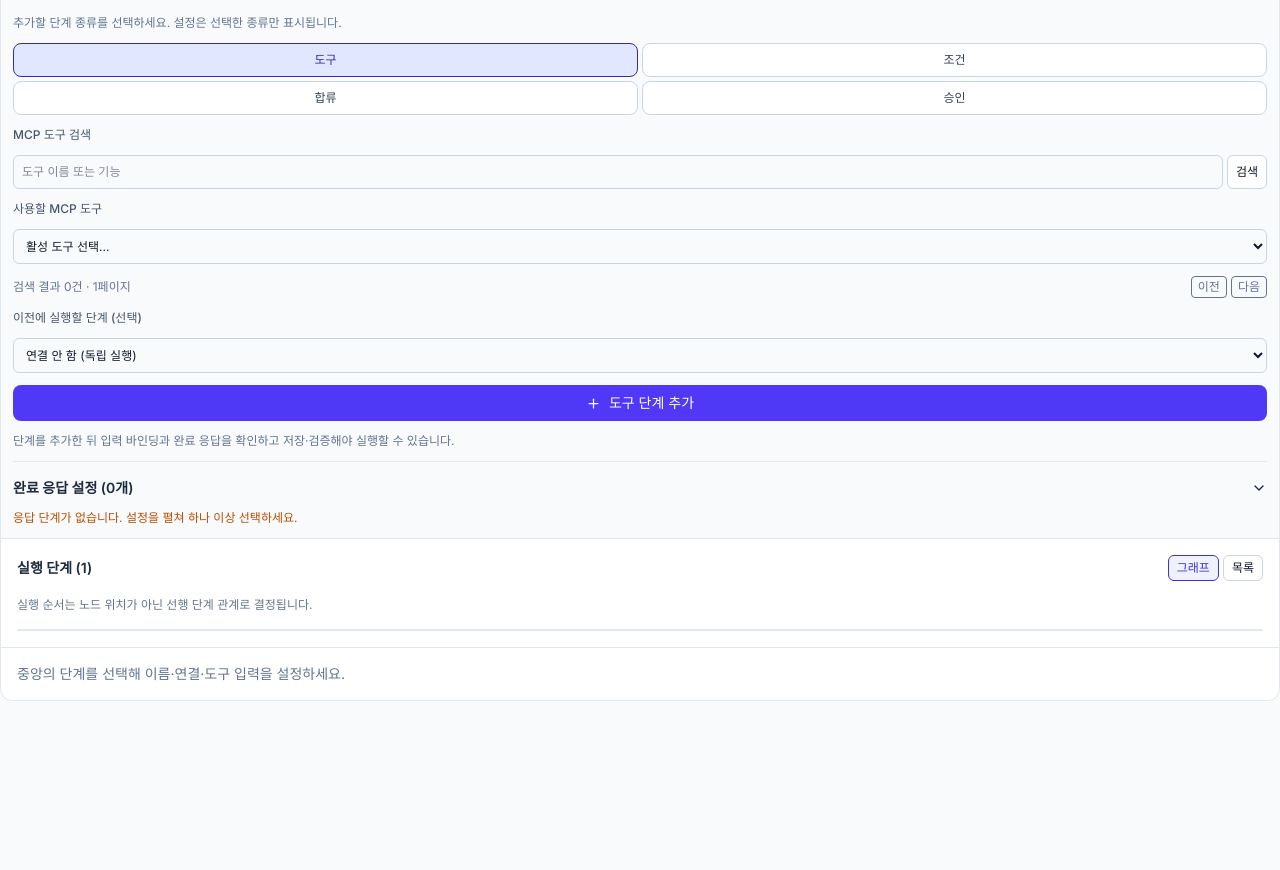
Test: Canonical visual workflow editor › never permits writes from the visual editor for a published version
Expected: the button "도구 단계 추가" is disabled, [13,385,1267,421]
Click the button "목록". click: (1243, 568)
box: [1223,555,1263,581]
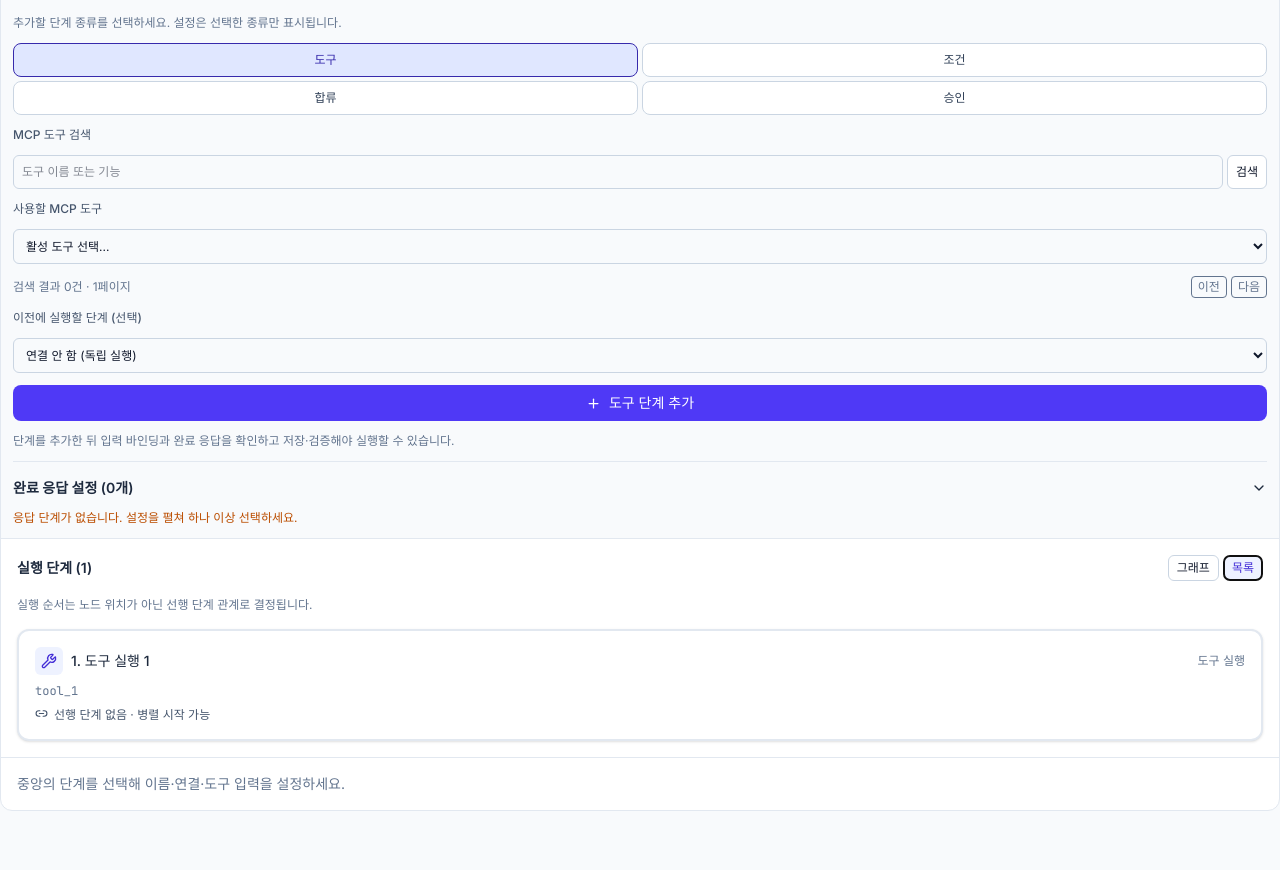
Click the button "1. 도구 실행 1 도구 실행 tool_1 선행 단계 없음 · 병렬 시작 가능". click: (117, 660)
box: [17,629,1263,741]
(page scrolled)
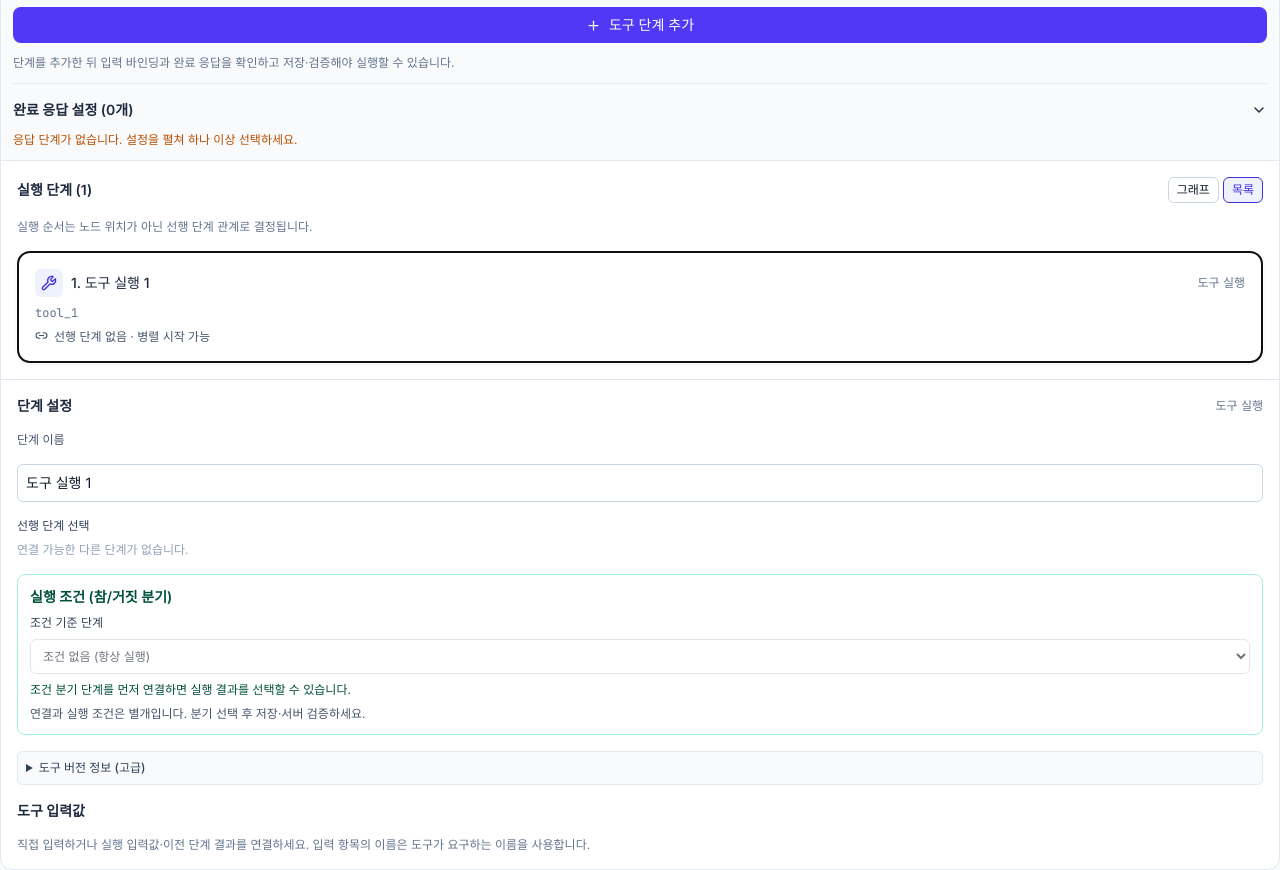
Now the field labelled "단계 이름" is disabled, box [17,464,1263,502]
